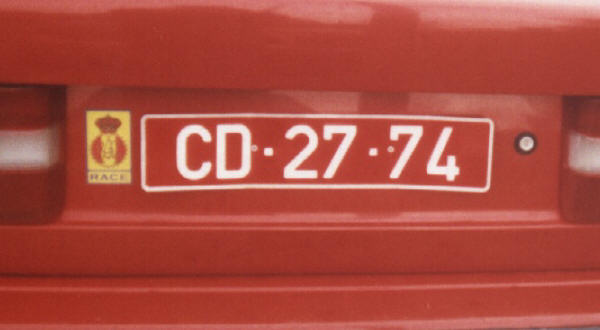license_plate: (140, 113, 495, 193)
